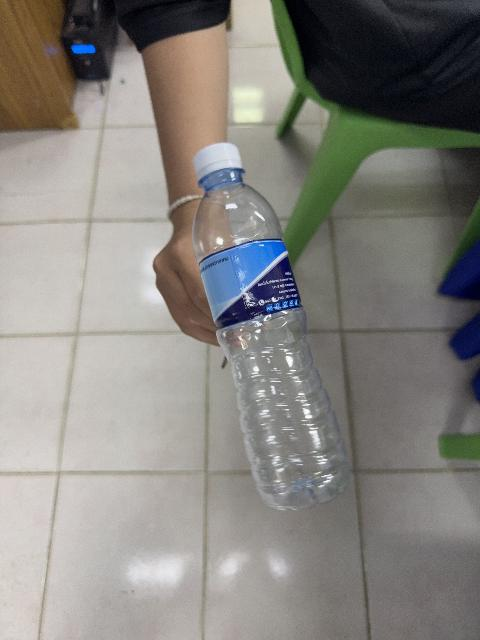bottle: (193, 144, 349, 509)
